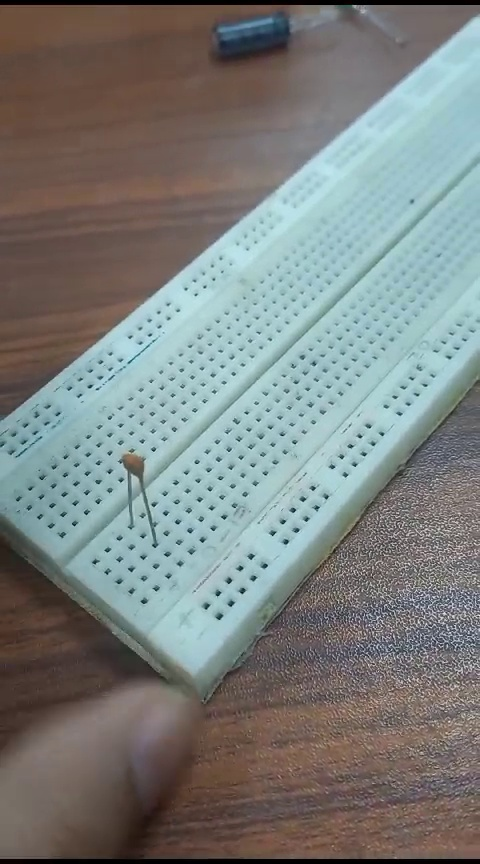ceramic capacitor: (102, 443, 158, 565)
